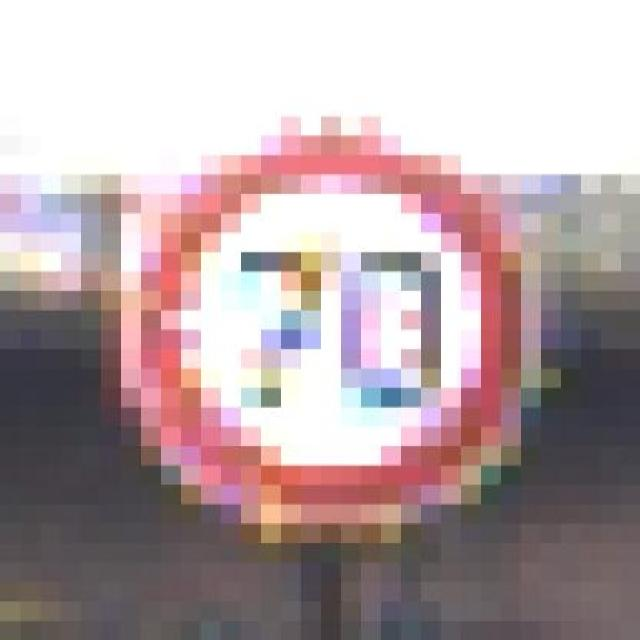forb_speed_over_70: (142, 138, 533, 525)
